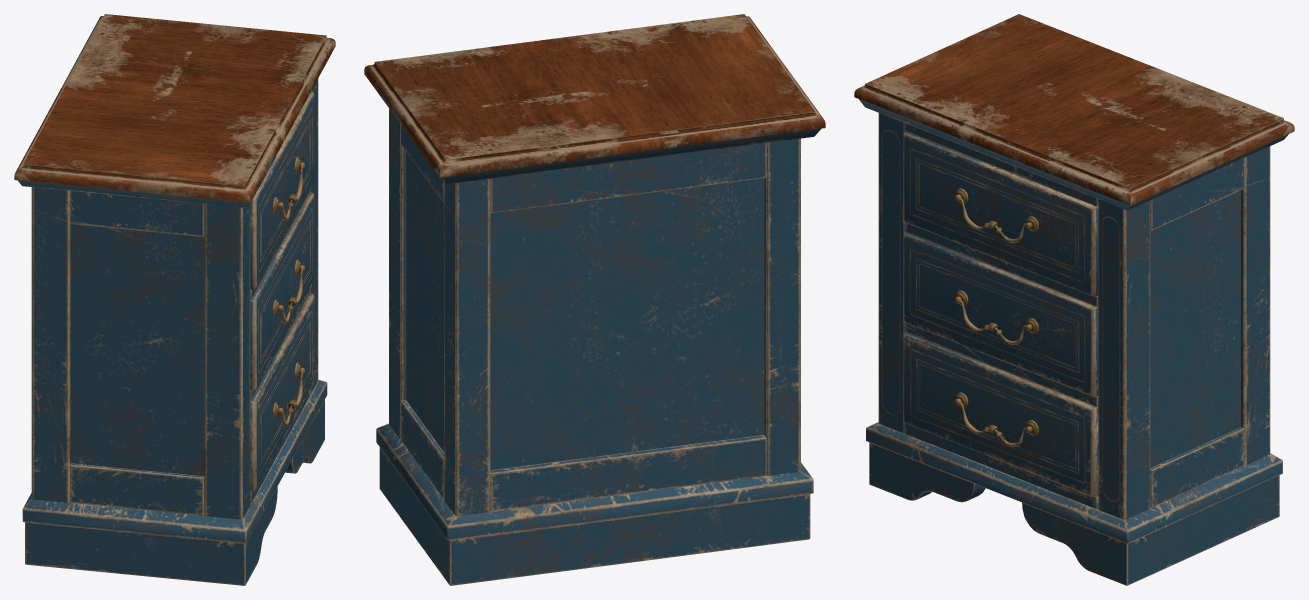
Rendered from antique_dresser_blue.glb.
3 renders of one model, left to right at view 1: azimuth 30°, elevation 25°; view 2: azimuth 150°, elevation 25°; view 3: azimuth 270°, elevation 25°, orthographic. The views are drawn at different scales.
Visible parts, largest first — view 1: Base_low, Top_low, Draw_low, Bottom02_low, WoodPie_low, Bottom01_low, Handle_low, HandlePie_low; view 2: Base_low, Top_low, WoodPie_low, Bottom02_low, Bottom01_low; view 3: Base_low, Draw_low, Top_low, WoodPie_low, Bottom02_low, Bottom01_low, Handle_low, HandlePie_low.
Part boxes in pixels (x1,y1,x2,y2): Base_low: (31,78,318,519); Top_low: (14,14,335,207); Draw_low: (250,91,314,491); Bottom02_low: (25,400,324,585); WoodPie_low: (70,188,310,515); Bottom01_low: (22,379,327,543); Handle_low: (281,166,303,426); HandlePie_low: (273,157,305,418); Base_low: (389,108,800,516); Top_low: (364,14,825,184); WoodPie_low: (401,125,766,511); Bottom02_low: (379,447,810,585); Bottom01_low: (376,423,813,540); Base_low: (878,113,1270,519); Draw_low: (903,131,1098,497); Top_low: (854,14,1294,210); WoodPie_low: (905,123,1244,509); Bottom02_low: (869,442,1279,585); Bottom01_low: (866,422,1282,543); Handle_low: (959,198,1025,447); HandlePie_low: (955,188,1038,435).
Size of the model in its own units: 1.53 by 1.56 by 1.56.
1 material, 1 textured.
